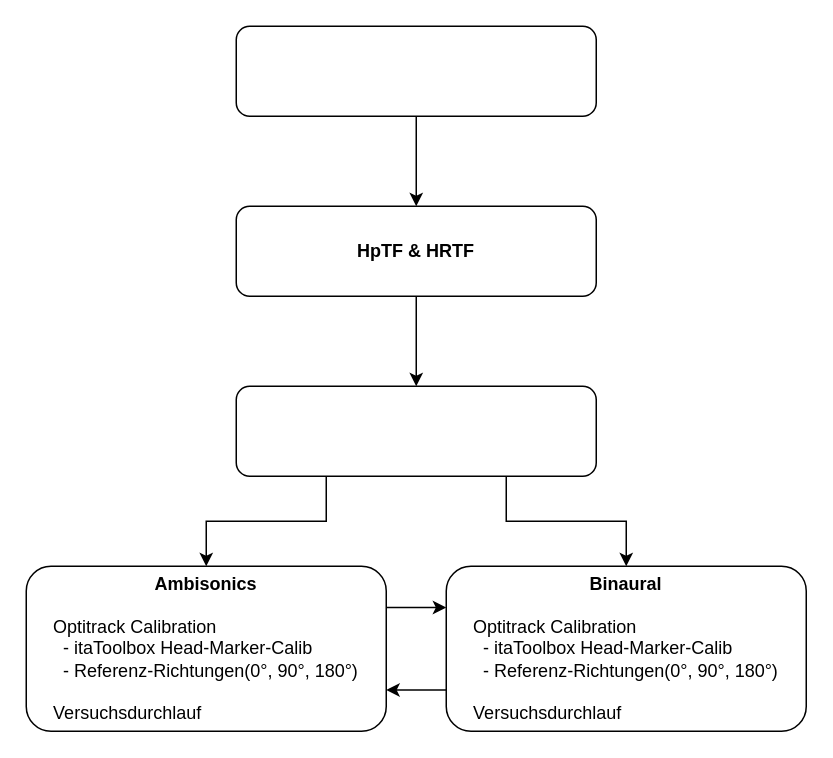
Image size: 833x758. Some labels were removed from this diagram. Each missing label, with the centre of its shape:
Audiometrie: point 415,70
Training: point 415,430
